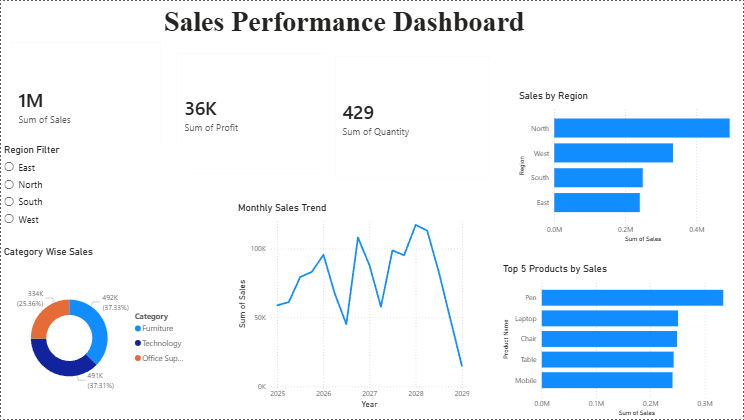

The dashboard page shown, as its layout file describes it:
{"tool":"powerbi","page":{"name":"Page 1","canvas":[1280,720],"ordinal":0},"visuals":[{"type":"clusteredBarChart","title":"Sales by Region","fields":{"Y":["Sum(Sheet1.Sales)"],"Category":["Sheet1.Region"]},"box":[888.6,154.3,391.4,267.1],"z":0},{"type":"lineChart","title":"Monthly Sales Trend","fields":{"Category":["Sheet1.Order Date.Variation.Date Hierarchy.Year","Sheet1.Order Date.Variation.Date Hierarchy.Quarter","Sheet1.Order Date.Variation.Date Hierarchy.Month","Sheet1.Order Date.Variation.Date Hierarchy.Day"],"Y":["Sum(Sheet1.Sales)"]},"box":[404.2,346.1,409.3,361.3],"z":1000},{"type":"donutChart","title":"Category Wise Sales","fields":{"Category":["Sheet1.Category"],"Y":["Sum(Sheet1.Sales)"]},"box":[0,421.9,333.5,298.1],"z":2000},{"type":"barChart","title":"Top 5 Products by Sales","fields":{"Category":["Sheet1.Product Name"],"Y":["Sum(Sheet1.Sales)"]},"box":[860.3,451.7,419,269],"z":3000},{"type":"cardVisual","fields":{"Data":["Sum(Sheet1.Profit)"]},"box":[285.7,72.9,304.3,242.9],"z":4000},{"type":"cardVisual","fields":{"Data":["Sum(Sheet1.Quantity)"]},"box":[558.6,77.1,302.9,245.7],"z":5000},{"type":"cardVisual","fields":{"Data":["Sum(Sheet1.Sales)"]},"box":[0,52.9,294.3,254.3],"z":6000},{"type":"listSlicer","title":"Region Filter","fields":{"Values":["Sheet1.Region"]},"box":[0,247.1,324.3,174.3],"z":7000},{"type":"textbox","box":[275.7,4.3,664.3,72.9],"z":8000}]}

Visuals, with their boxes in screenshot pixels (x1, y1, x2, y2), scaled from the page's 1280x720 canvas onto the 744x420 screenshot:
"Sales by Region" clusteredBarChart: bbox=[516, 90, 743, 246]
"Monthly Sales Trend" lineChart: bbox=[235, 202, 473, 413]
"Category Wise Sales" donutChart: bbox=[0, 246, 194, 419]
"Top 5 Products by Sales" barChart: bbox=[500, 263, 743, 419]
cardVisual - Sum(Sheet1.Profit): bbox=[166, 43, 343, 184]
cardVisual - Sum(Sheet1.Quantity): bbox=[325, 45, 501, 188]
cardVisual - Sum(Sheet1.Sales): bbox=[0, 31, 171, 179]
"Region Filter" listSlicer: bbox=[0, 144, 188, 246]
textbox: bbox=[160, 3, 546, 45]
